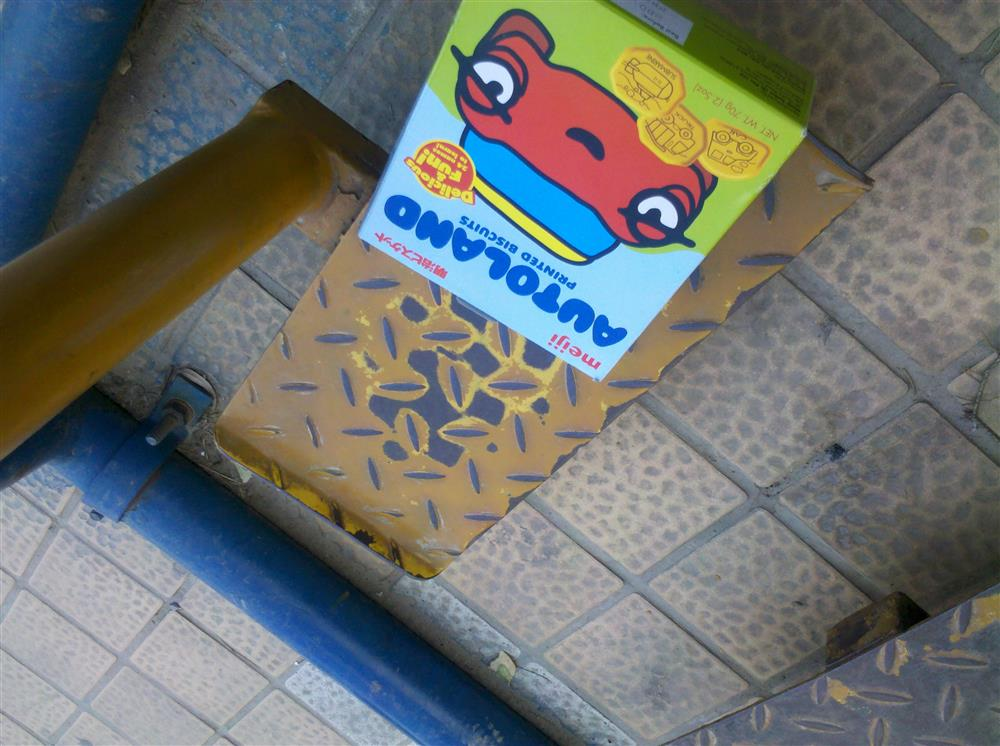Autoland: (344, 1, 806, 386)
